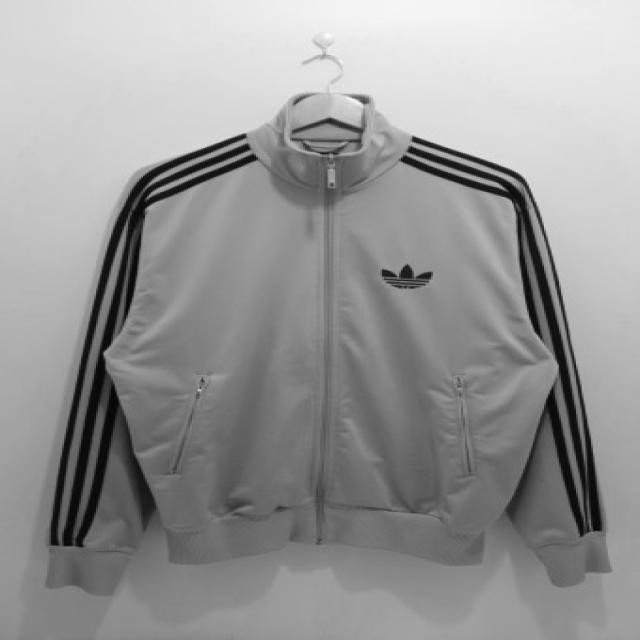Adidas: (375, 255, 444, 299)
